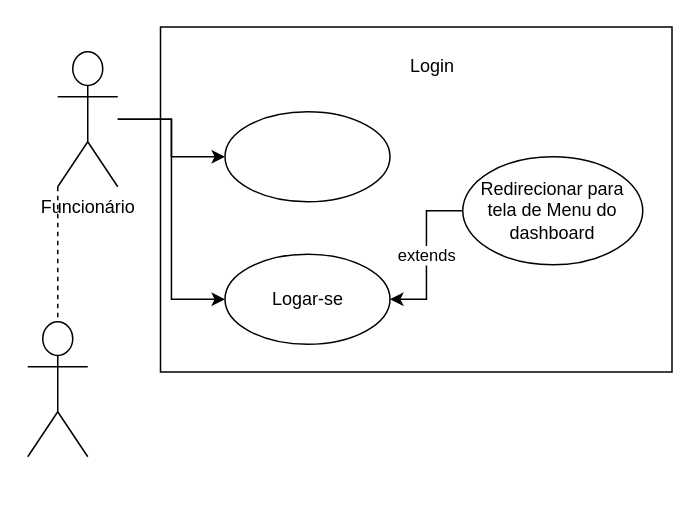
Image size: 699x513. Some labels were removed from this diagram. The centre of each missing label's shape, as x and y in pixels:
"Gerente" goes at [57,388].
"Voltar para tela home" goes at [307,156].
